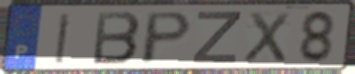8: (298, 9, 338, 65)
B: (91, 10, 143, 66)
I: (53, 12, 73, 66)
P: (138, 10, 195, 66)
X: (241, 10, 292, 64)
Z: (189, 10, 243, 65)
